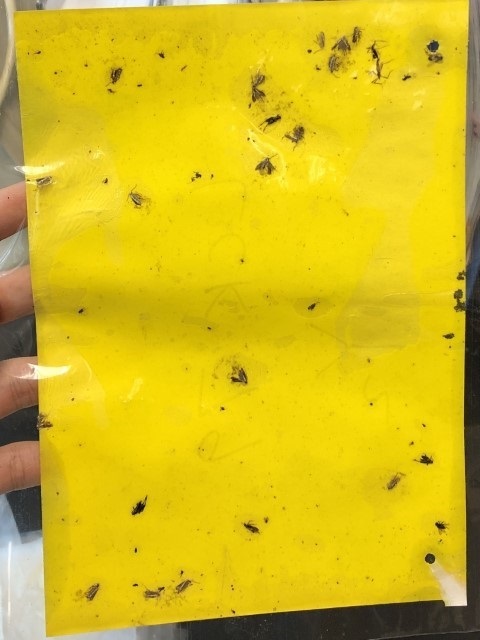DBM: (122, 184, 149, 210), (140, 584, 162, 605), (229, 368, 251, 388), (174, 578, 198, 595), (83, 582, 101, 603), (333, 35, 351, 55), (326, 51, 340, 76), (386, 472, 401, 492), (32, 175, 55, 188), (249, 87, 266, 104), (251, 72, 266, 86)
